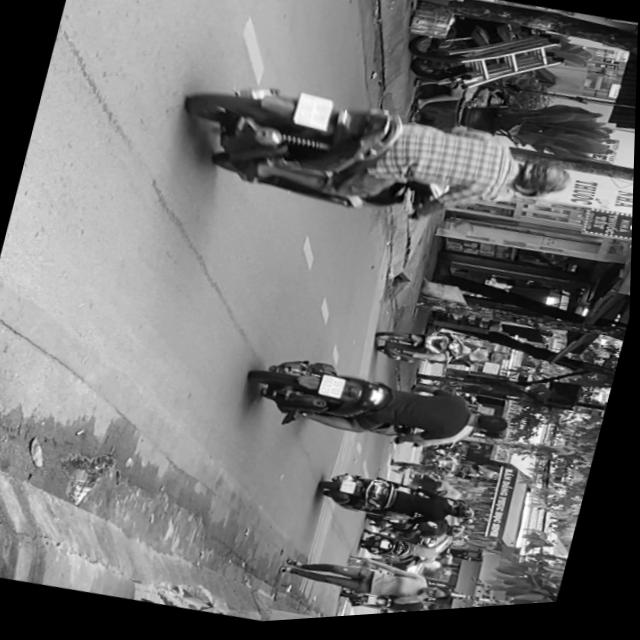helmet: (511, 160, 579, 212), (482, 355, 507, 373)
licenseplate: (167, 53, 591, 273), (241, 339, 523, 483), (371, 320, 511, 392)
motorcyclist: (470, 414, 515, 446)
nohelmet: (293, 95, 335, 136), (320, 377, 348, 404)
